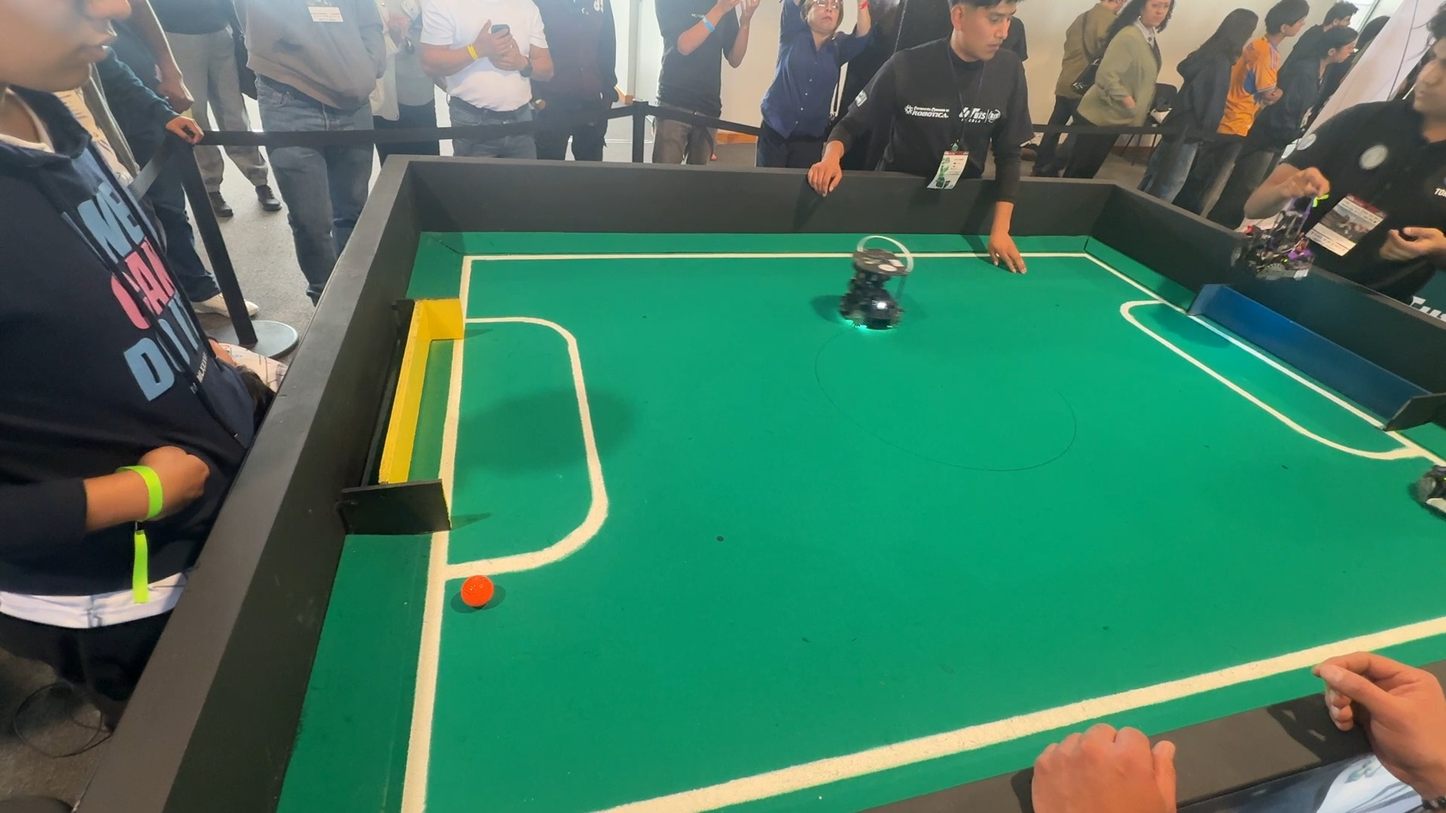Robot: (808, 239, 923, 349), (1404, 423, 1446, 538)
pelota: (455, 572, 505, 614)
